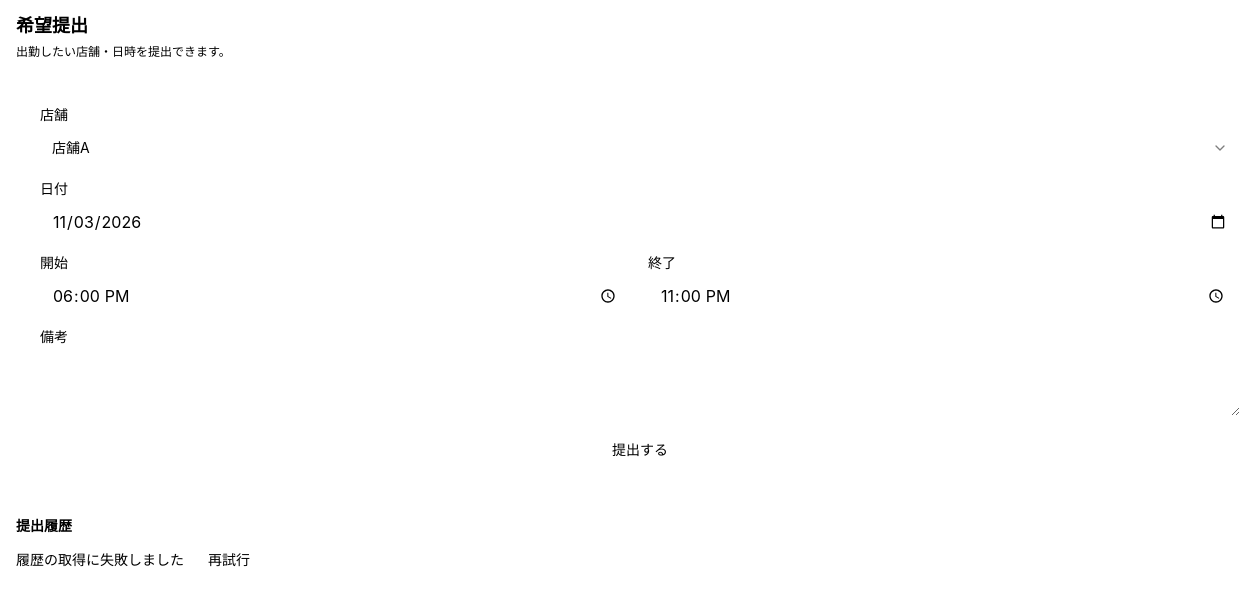
Scenario: CastRequestsPage › 取得に失敗した場合はエラー文言を表示し、再試行で復帰できること
Check: the text "履歴の取得に失敗しました" is shown, box [16,550,184,570]
Click the button "再試行" at x=229, y=560, box [196,544,262,576]
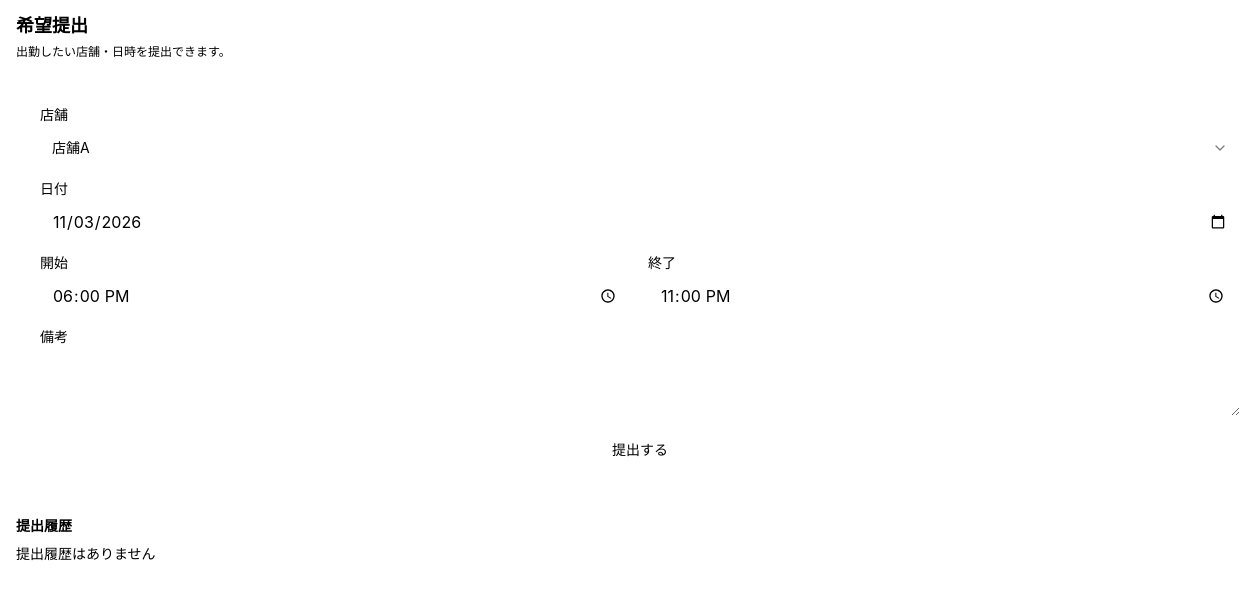
Check: the text "提出履歴はありません" is shown, box [16,545,156,562]
Check: the message "履歴の取得に失敗しました 再試行" is gone
